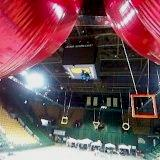Orange_Square_GShape: (131, 93, 157, 118)
Yellow_Circle_GShape: (121, 122, 130, 131)
Yellow_Square_GShape: (61, 116, 68, 125)
Yellow_Triangle_Gshape: (92, 121, 101, 129)
